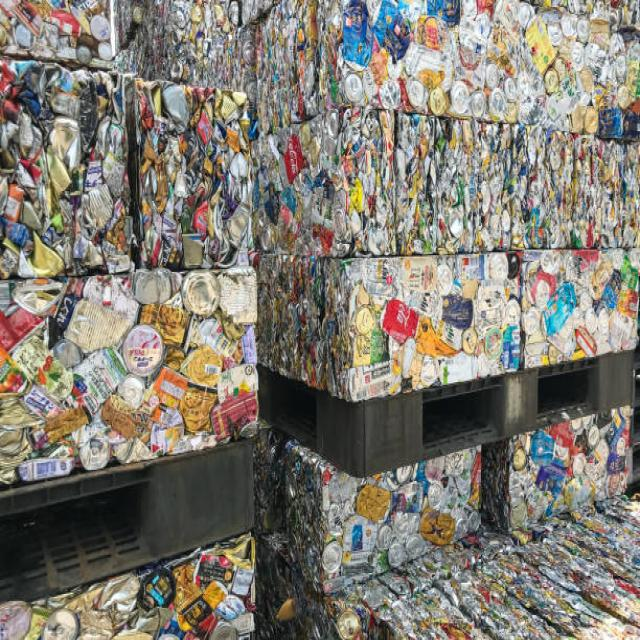metal: (6, 292, 249, 434), (354, 17, 580, 121), (5, 82, 132, 264), (337, 266, 511, 371), (144, 95, 238, 254), (329, 485, 498, 568), (536, 438, 574, 513)
